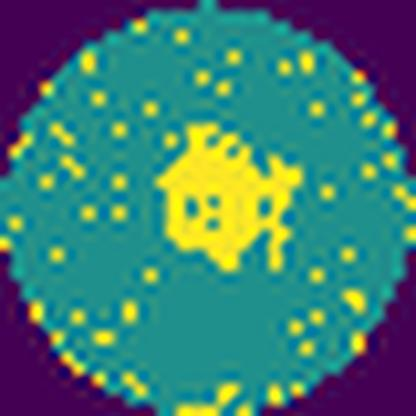Center: (158, 121, 306, 276)
